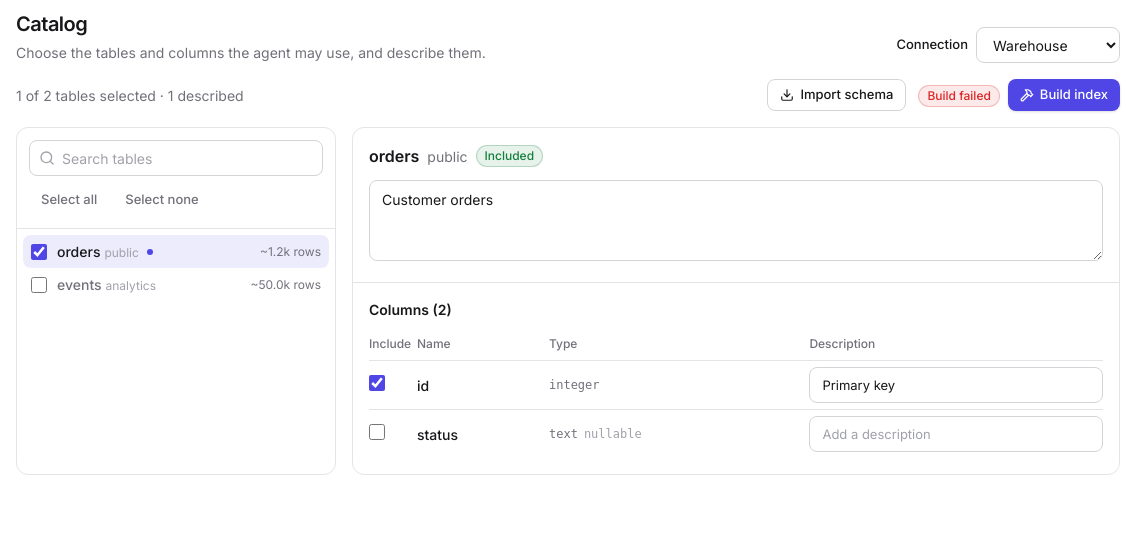
Test: import and index › shows a failed build and index errors
This screenshot has width=1137, height=555.
Expected: the checkbox named "Include public.orders" is shown, [31,244,47,260]
Expected: the text "Build failed" is shown, [918,84,1000,106]
Click the button "Build index": (1064, 95) [1008,79,1120,111]
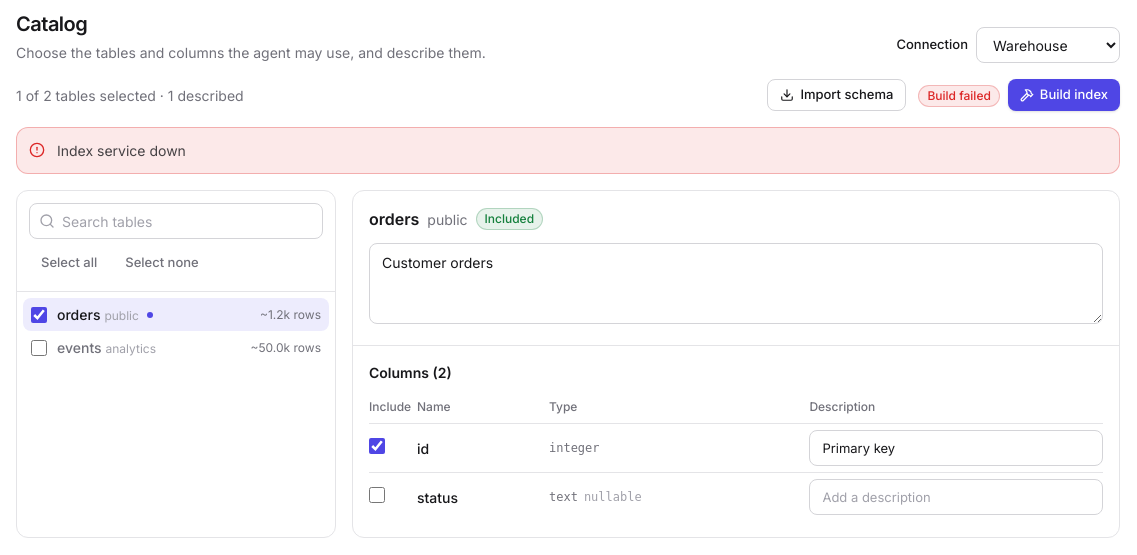
Now the message "Index service down" is shown, box [16,127,1120,174]
